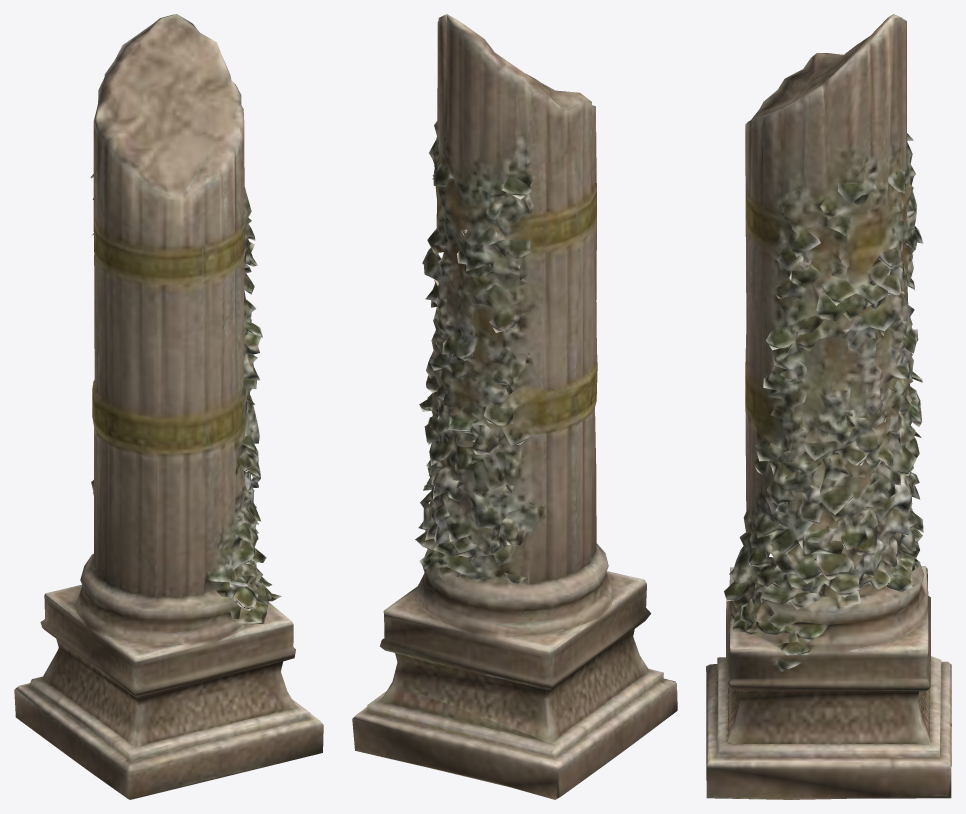
Rendered from ruined_pillar.glb.
The picture shows the model from 3 angles, left to right: view 1: azimuth 30°, elevation 25°; view 2: azimuth 150°, elevation 25°; view 3: azimuth 270°, elevation 25°; orthographic projection. The views are drawn at different scales.
Size of the model in its own units: 0.2985 by 1.01 by 0.2987.
Materials: 1 (1 with a texture image).
